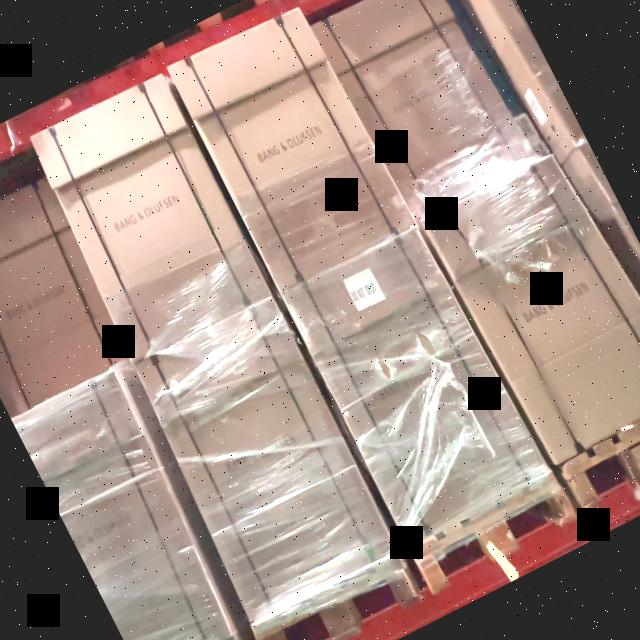box: (281, 224, 547, 546), (136, 299, 399, 618), (170, 4, 414, 293), (32, 74, 273, 364), (424, 153, 640, 463)
